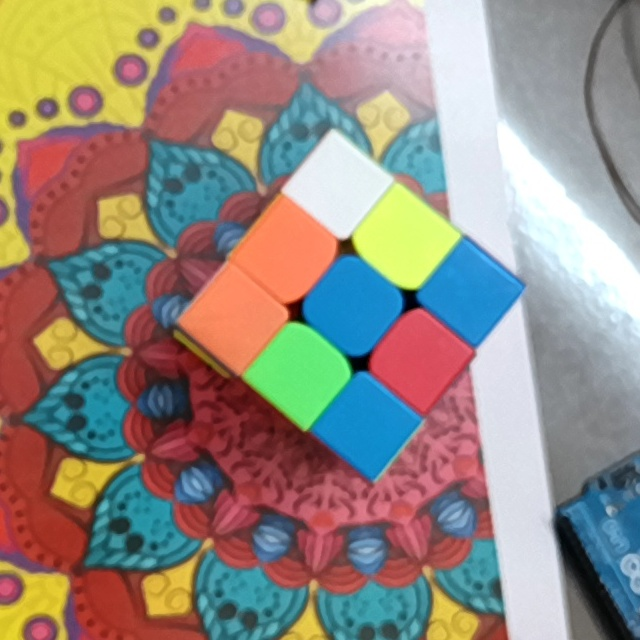tile: (258, 223, 320, 280), (377, 211, 435, 266), (207, 291, 263, 345), (443, 265, 500, 318), (272, 346, 330, 398), (392, 333, 448, 385), (324, 283, 380, 335), (339, 398, 395, 450), (312, 162, 364, 212)
